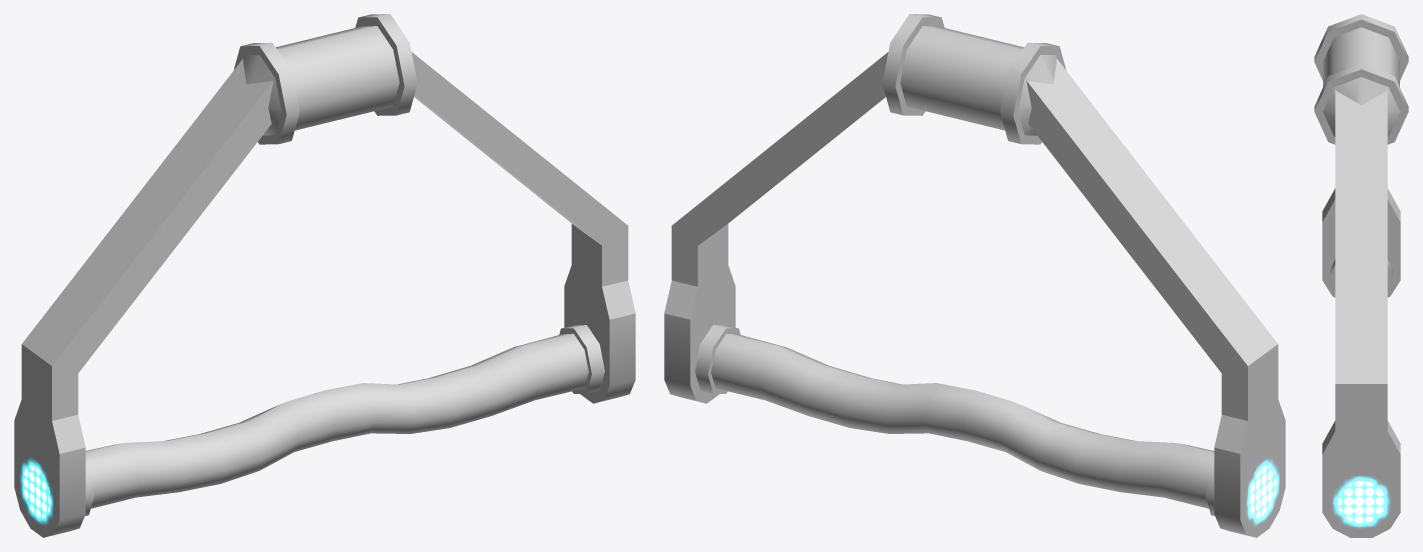
Rendered from zipline_handle.fbx.
3 renders of one model, left to right at view 1: azimuth 30°, elevation 25°; view 2: azimuth 150°, elevation 25°; view 3: azimuth 270°, elevation 25°, orthographic. The views are drawn at different scales.
Visible parts, largest first — view 1: Handle; view 2: Handle; view 3: Handle.
Boxes of the visible parts, left/top/right/bottom form: Handle: left=14, top=14, right=635, bottom=537; Handle: left=664, top=14, right=1285, bottom=537; Handle: left=1314, top=14, right=1408, bottom=537.
Size of the model in its own units: 44 by 31.6 by 7.2.
